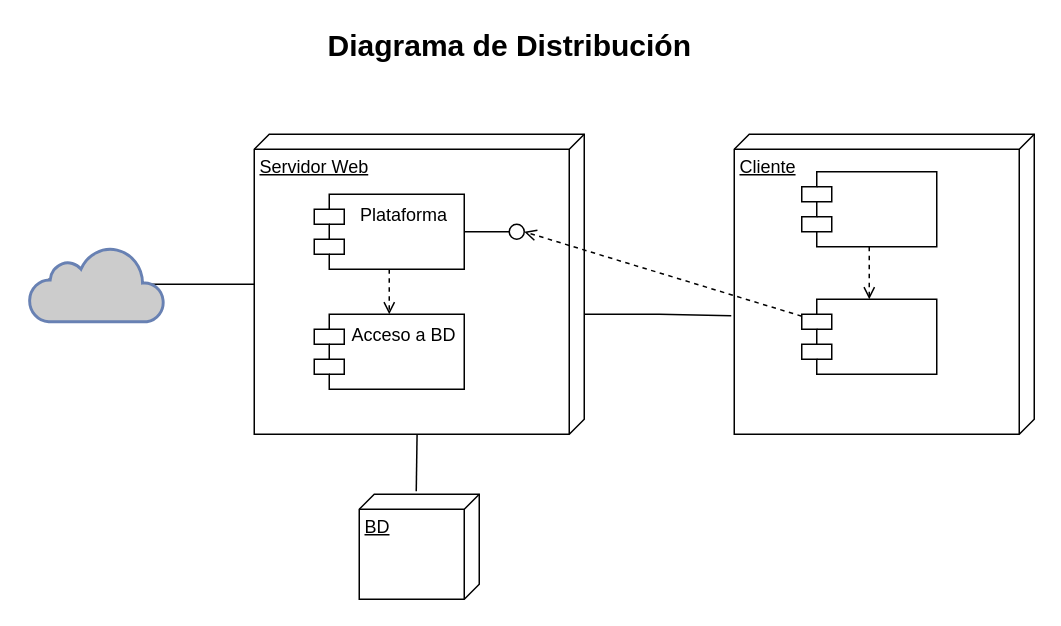
Image size: 1061x626. Some labels were removed from this diagram. The centre of each missing label's shape, as x and y in pixels:
"Interfaz" goes at (x=868, y=208).
"Navegador" goes at (x=868, y=336).
